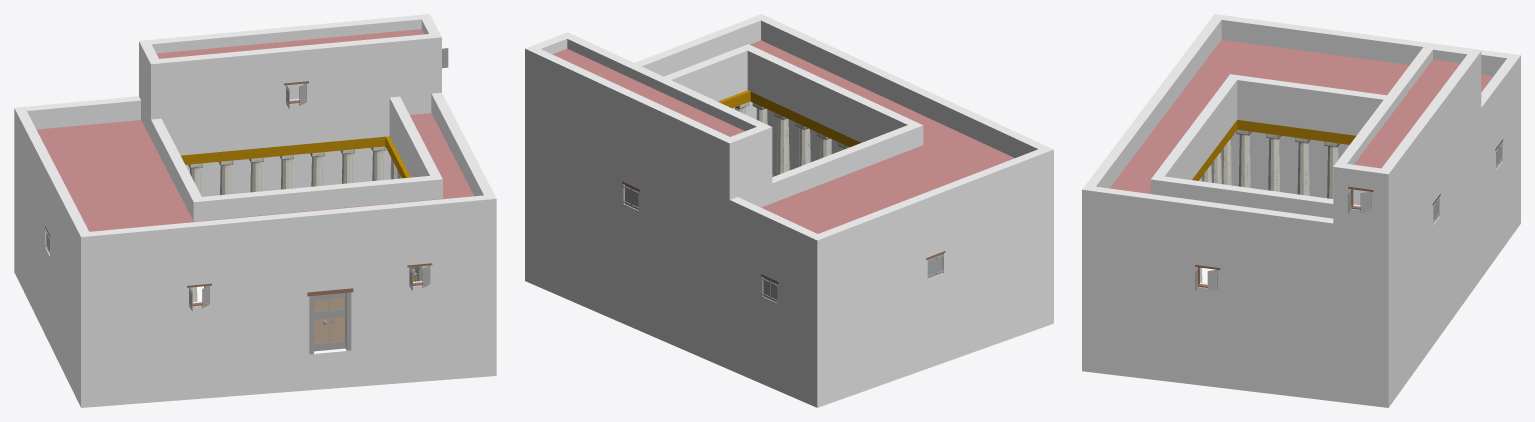
The model's file is LOD_Block_3_49.glb.
The picture shows the model from 3 angles, left to right: view 1: azimuth 30°, elevation 25°; view 2: azimuth 150°, elevation 25°; view 3: azimuth 270°, elevation 25°; orthographic projection. The views are drawn at different scales.
Parts seen in each view (by area): view 1: _1.4580; view 2: _1.4580; view 3: _1.4580.
Boxes of the visible parts, left/top/right/bottom form: _1.4580: left=14, top=14, right=496, bottom=407; _1.4580: left=525, top=14, right=1053, bottom=407; _1.4580: left=1082, top=14, right=1520, bottom=407.
Size of the model in its own units: 23.38 by 11.98 by 19.99.
21 materials, 2 textured.
